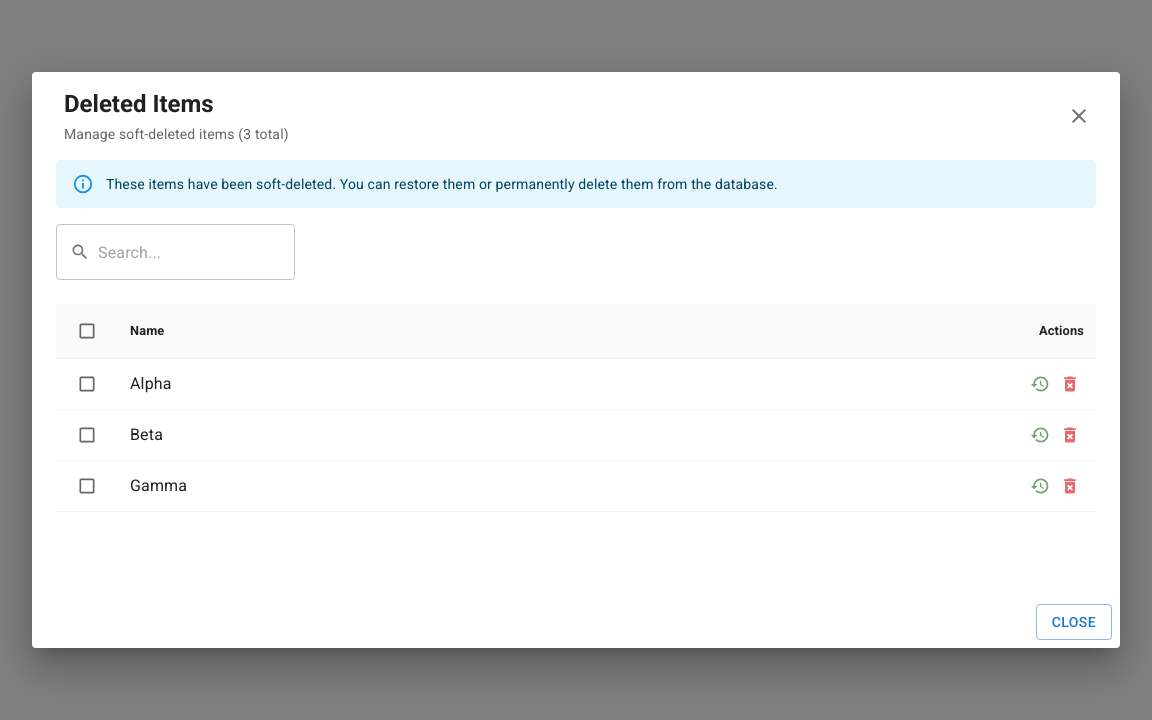
Test: GenericDeletedDialog › shows bulk action buttons after selecting an item
What coordinates should you click on to do the following:
click the 2nd checkbox
I would click on:
 (87, 384)
Its box is [77,374,97,394].
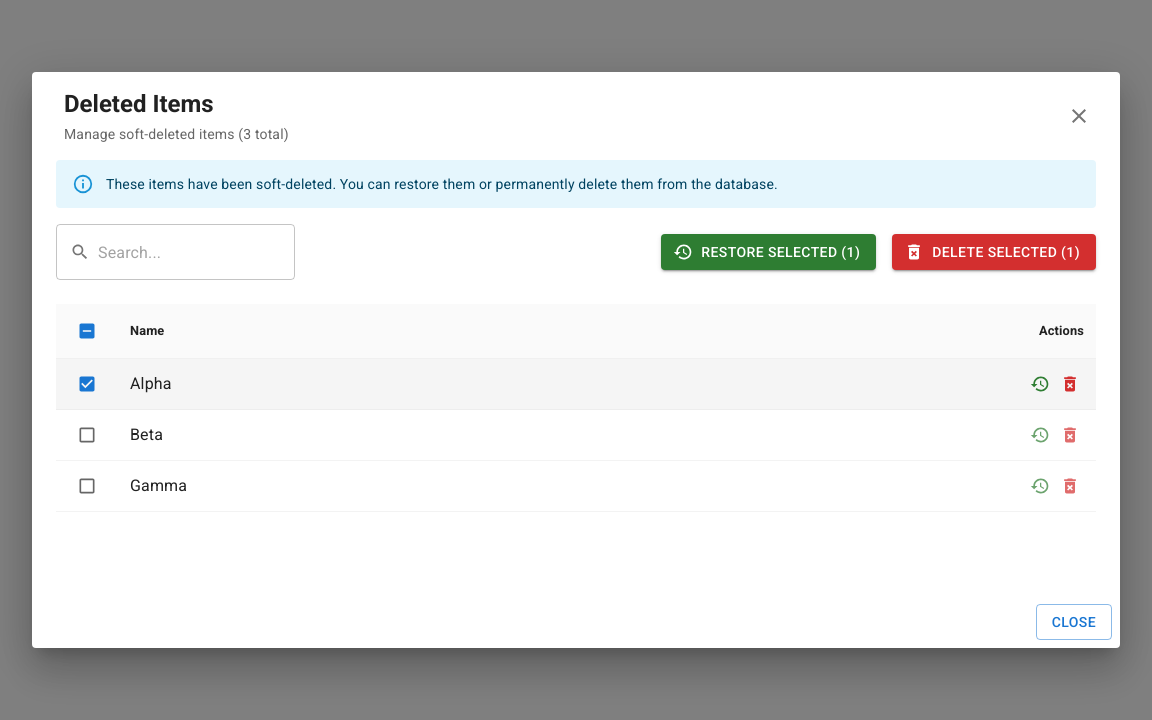
Result: the button "Restore Selected (1)" is shown at [661,234,876,270]
Result: the button "Delete Selected (1)" is shown at [892,234,1096,270]
